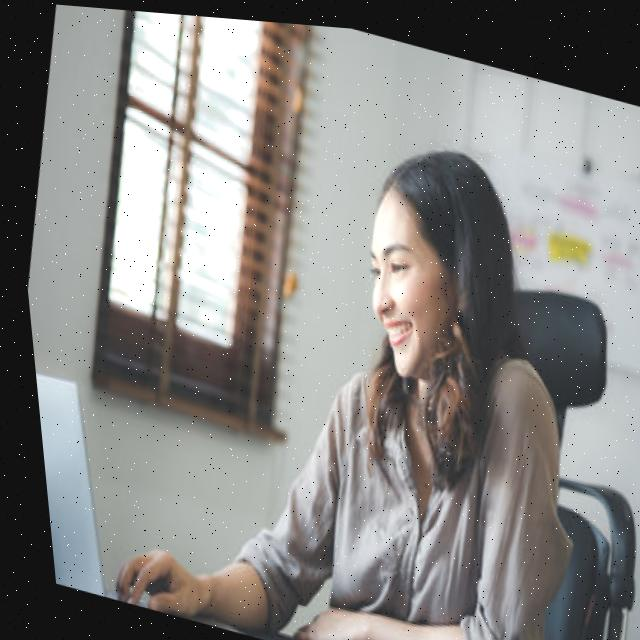notebook-person: (2, 26, 640, 640)
